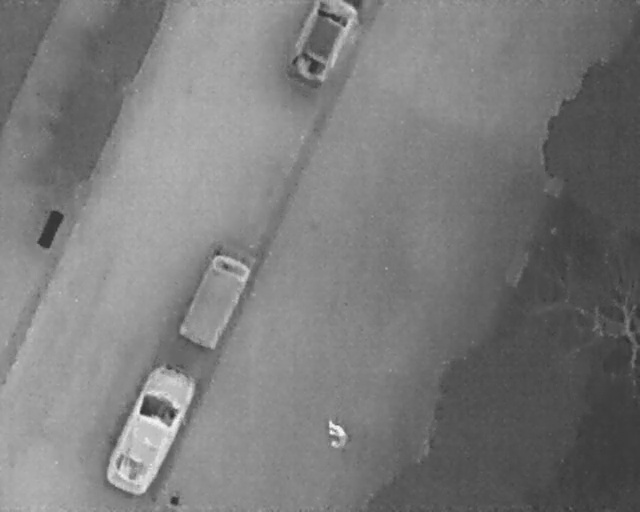Car: (94, 355, 204, 503), (168, 240, 261, 357), (284, 0, 359, 87)
Person: (326, 418, 349, 451)
